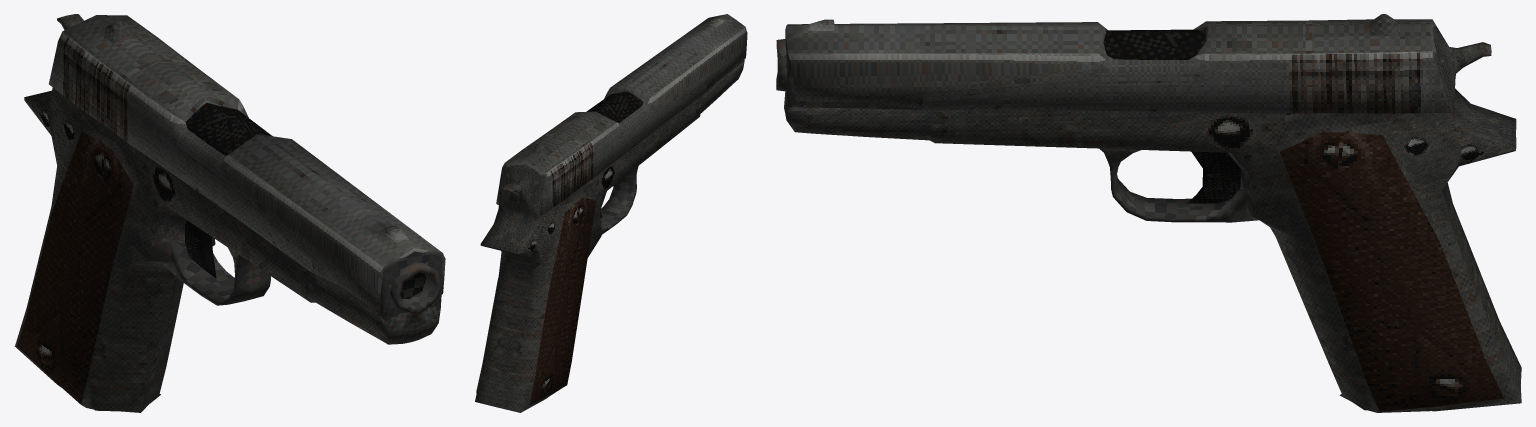
3 views of the same model, side by side, from view 1: azimuth 30°, elevation 25°; view 2: azimuth 150°, elevation 25°; view 3: azimuth 270°, elevation 25° (orthographic). The views are drawn at different scales.
Visible parts, largest first — view 1: base, slide; view 2: base, slide; view 3: base, slide.
Boxes of the visible parts, x1,y1,x2,y2 form: base: (15, 14, 442, 411); slide: (49, 15, 445, 320); base: (475, 61, 744, 412); slide: (496, 14, 747, 215); base: (776, 26, 1521, 412); slide: (785, 14, 1451, 113).
Bounding box in the file's own units: 0.1832 × 0.7777 × 1.38.
Materials: 1 (1 with a texture image).
